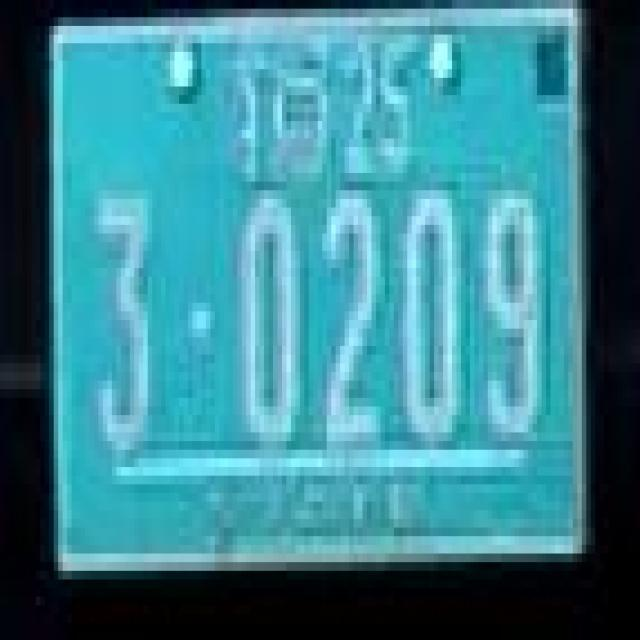State: (233, 44, 331, 189)
